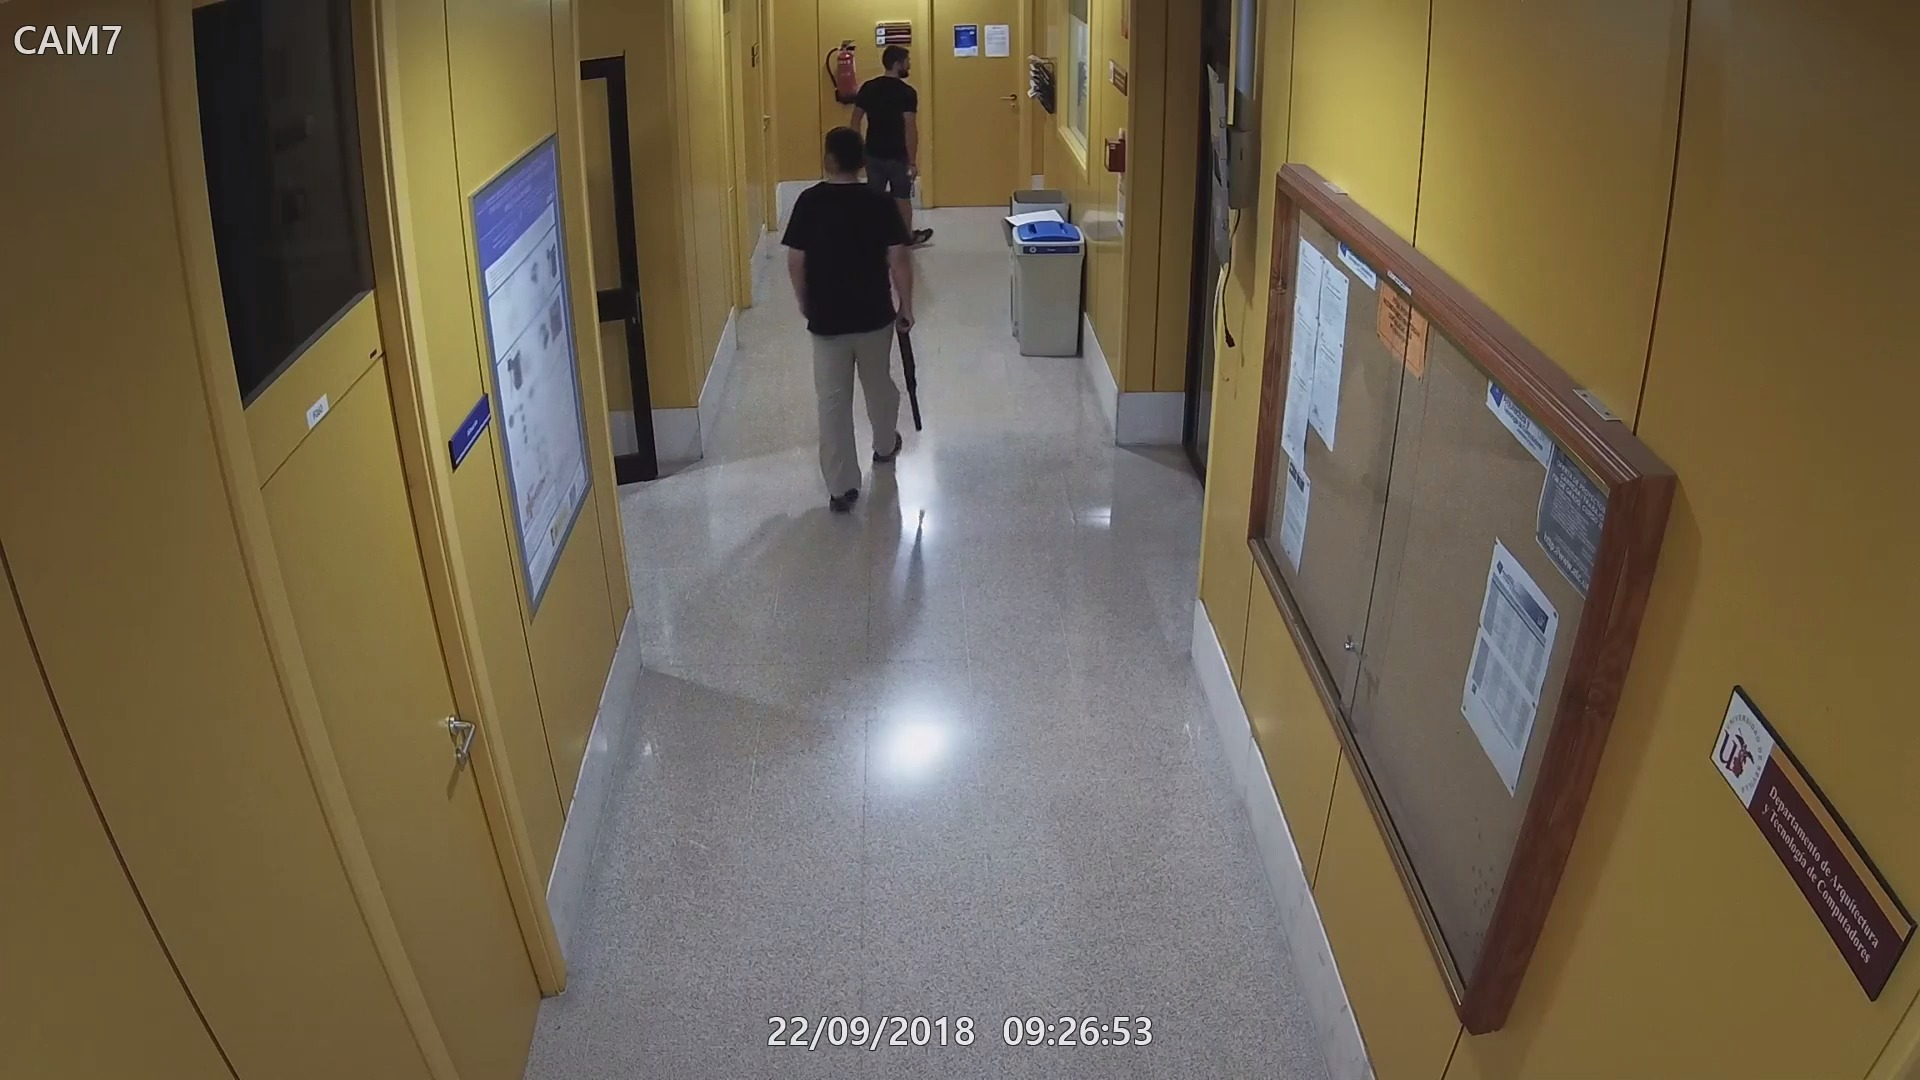Handgun: (901, 157, 928, 203)
Short_rifle: (893, 311, 926, 433)
